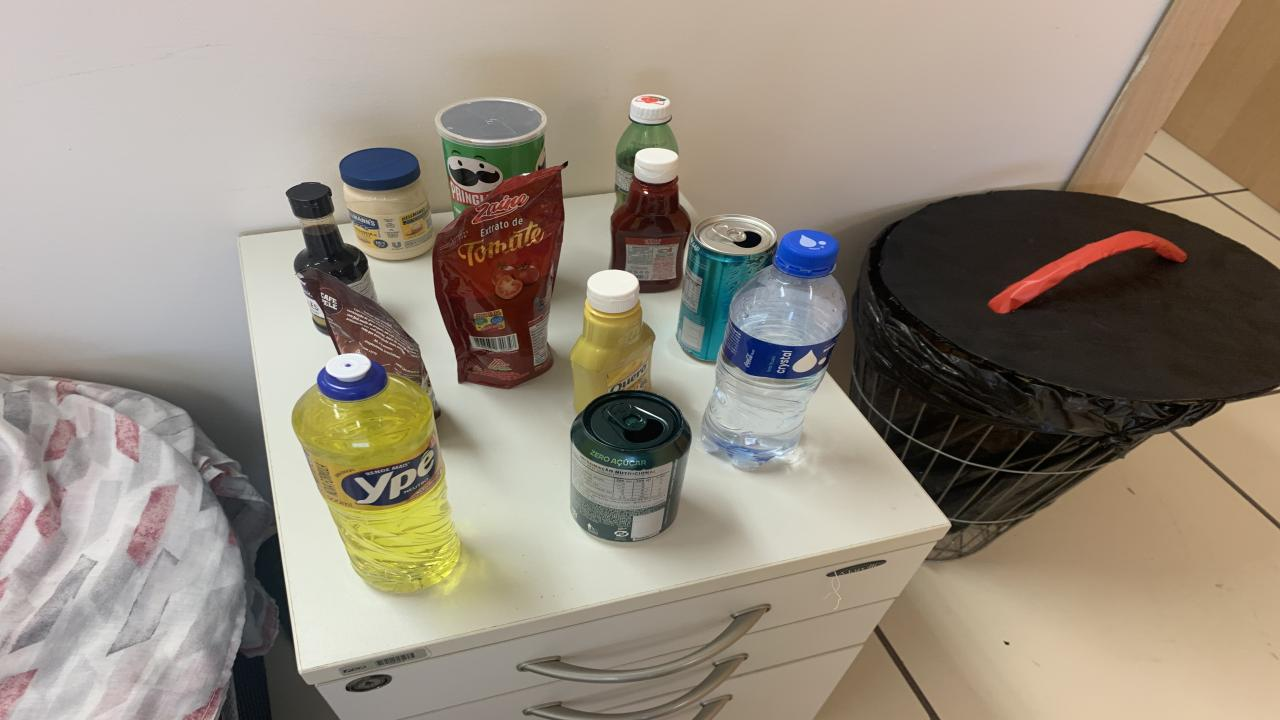Coffee-Pantry_Items: (298, 268, 440, 416)
Detergent-Cleanup_Items: (292, 352, 460, 592)
English_Sauce-Pantry_Items: (285, 182, 375, 300), (305, 289, 330, 334)
Guarana-Drinks: (615, 94, 678, 208)
Guarana_Can-Drinks: (570, 390, 690, 542)
Ketchup-Pantry_Items: (610, 148, 690, 292)
Mayonnaise-Pantry_Items: (340, 148, 435, 261)
Mustard-Pantry_Items: (570, 270, 655, 412)
Pringles-Snacks: (435, 98, 548, 216)
Tea-Drinks: (678, 214, 778, 362)
Tomato_Sauce-Pantry_Items: (432, 165, 565, 388)
Water_Bottle-Drinks: (702, 229, 848, 469)
